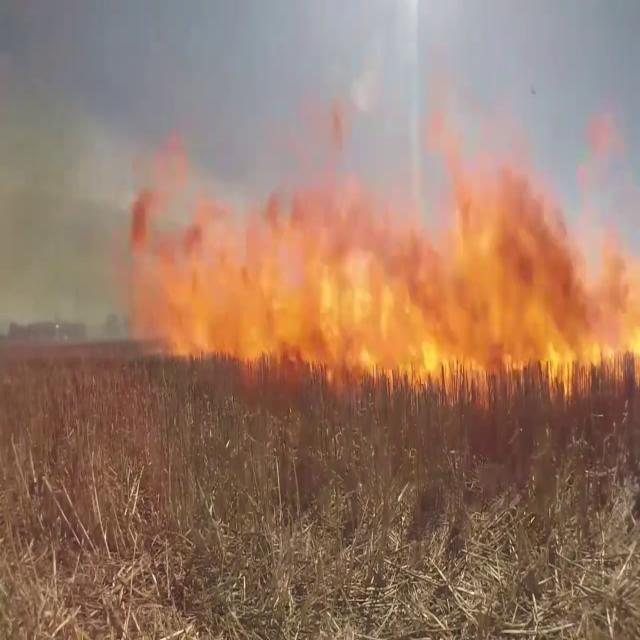Fire: (116, 148, 604, 386)
Smoke: (0, 0, 141, 318)
